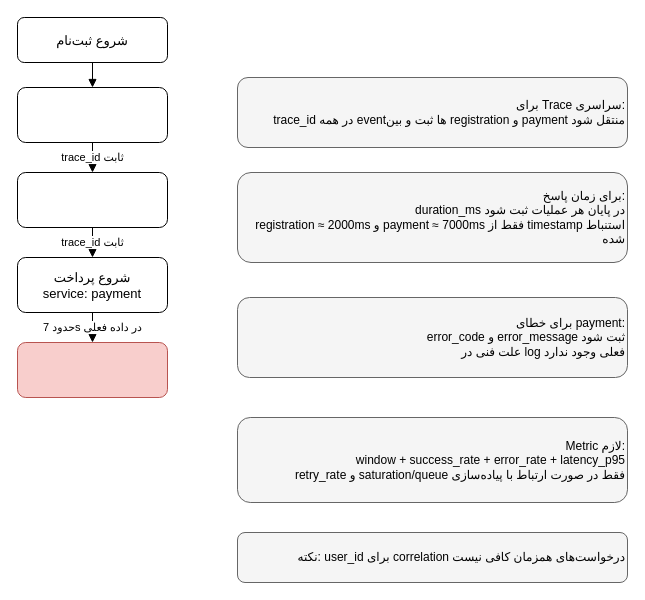
This 645x600 diagram has some shape labels left out. Here are the shapes that lost their labels. From the top down, the centre of each, then its label:
[92,114]: درخواست ثبت‌نام service: registration
[92,200]: اعتبارسنجی اطلاعات service: registration
[92,370]: پرداخت ناموفق service: payment
